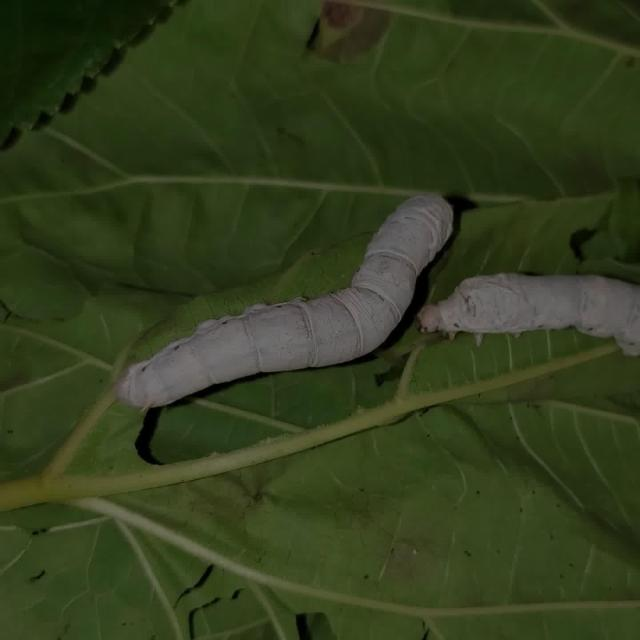Healthy: (101, 151, 640, 453)
